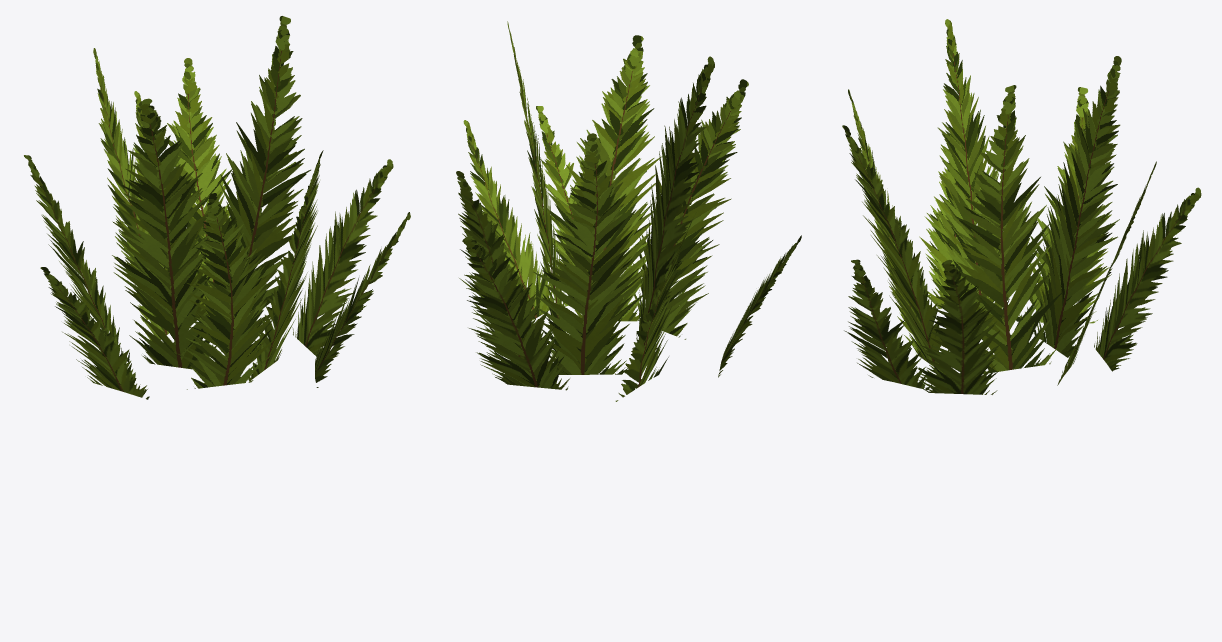
Rendered from mm8_deco_seaweed.glb.
3 views of the same model, side by side, from view 1: azimuth 30°, elevation 25°; view 2: azimuth 150°, elevation 25°; view 3: azimuth 270°, elevation 25° (orthographic).
Visible parts, largest first — view 1: Seaweed; view 2: Seaweed; view 3: Seaweed.
Boxes of the visible parts, x1,y1,x2,y2 form: Seaweed: (24,16,410,399); Seaweed: (456,21,801,401); Seaweed: (842,19,1201,394).
Bounding box in the file's own units: 1.99 × 3.13 × 1.85.
Materials: 1 (1 with a texture image).
